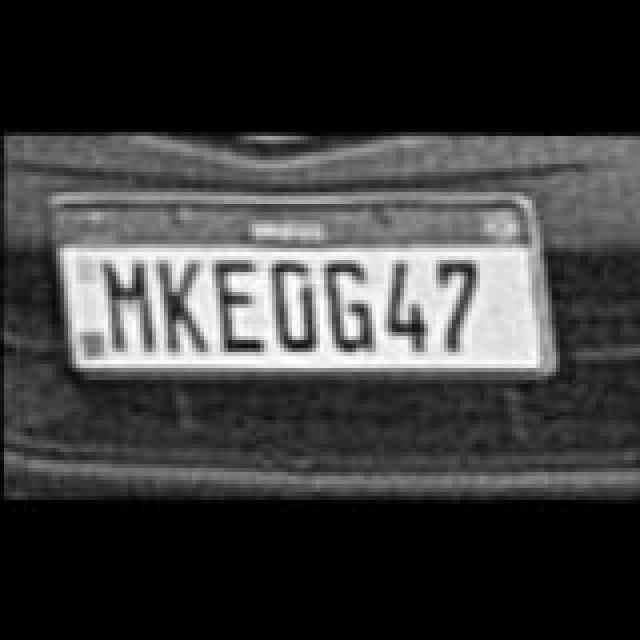4: (384, 258, 428, 354)
7: (438, 256, 486, 352)
D: (272, 258, 324, 350)
E: (210, 256, 266, 352)
G: (324, 256, 376, 352)
H: (104, 254, 156, 350)
K: (156, 256, 208, 352)
